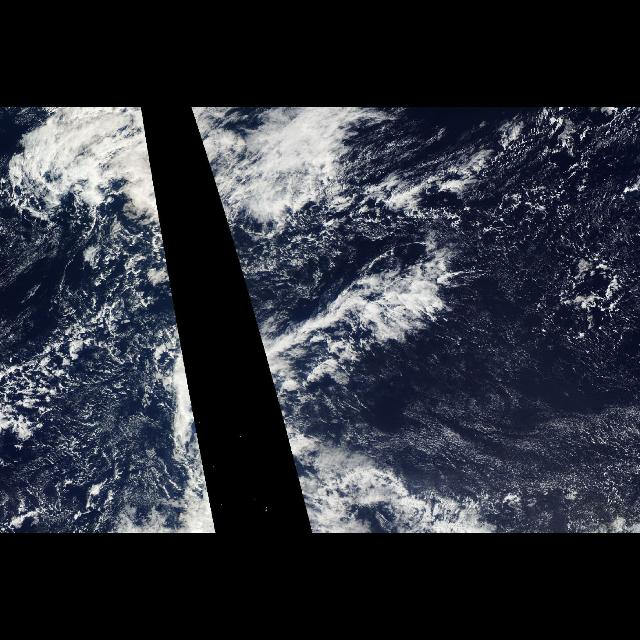Fish: (257, 240, 447, 406)
Gravel: (454, 112, 640, 392), (5, 232, 171, 530)
Sugar: (353, 362, 639, 526)
